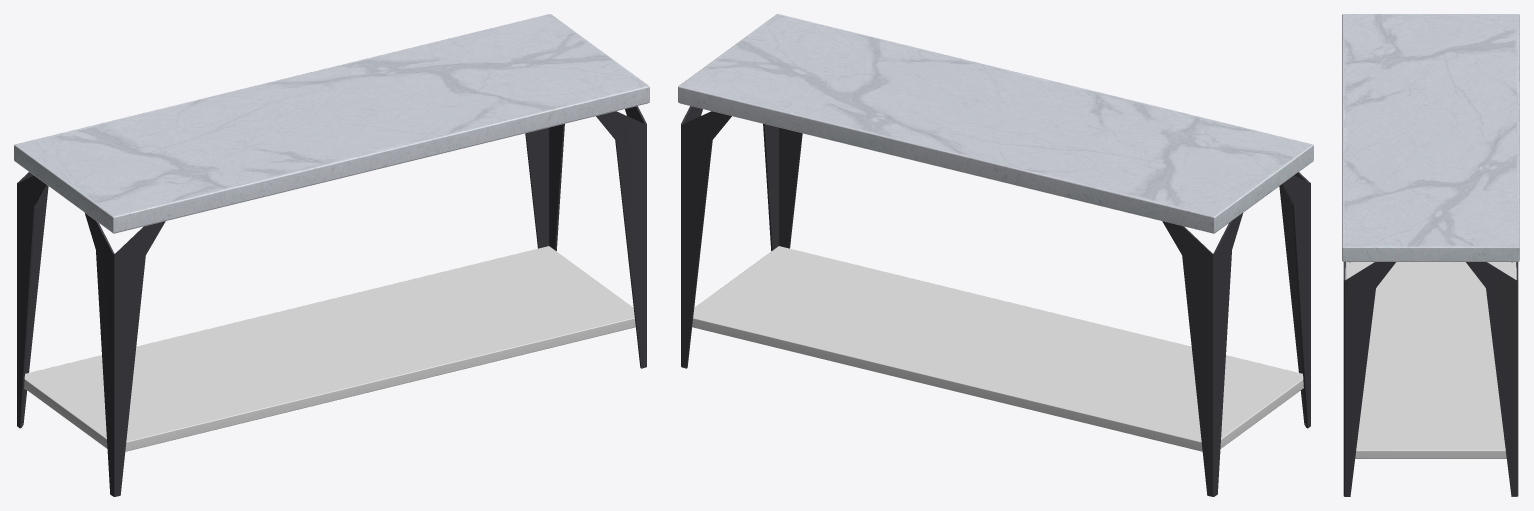
3 views of the same model, side by side, from view 1: azimuth 30°, elevation 25°; view 2: azimuth 150°, elevation 25°; view 3: azimuth 270°, elevation 25° (orthographic). The views are drawn at different scales.
Parts seen in each view (by area): view 1: marble, metal; view 2: marble, metal; view 3: marble, metal.
Part boxes in pixels (<box>): marble: <box>14,14,649,451</box>; metal: <box>17,106,646,496</box>; marble: <box>678,14,1313,451</box>; metal: <box>681,106,1310,496</box>; marble: <box>1342,14,1519,458</box>; metal: <box>1343,262,1518,496</box>.
Bounding box in the file's own units: 1.4 × 0.7 × 0.45.
1 material, 1 textured.
